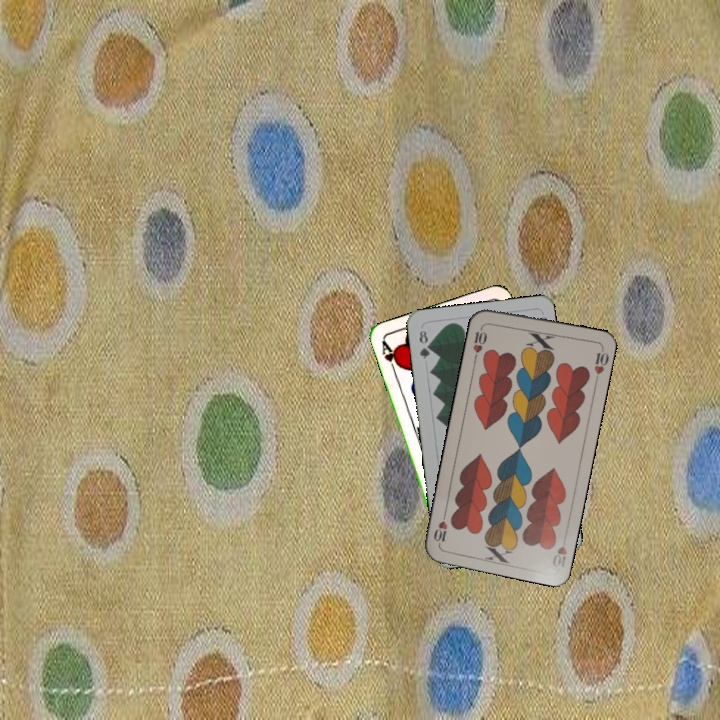G8: (415, 326, 433, 362)
H10: (469, 321, 490, 361), (548, 541, 569, 570)
HA: (377, 337, 403, 376)
